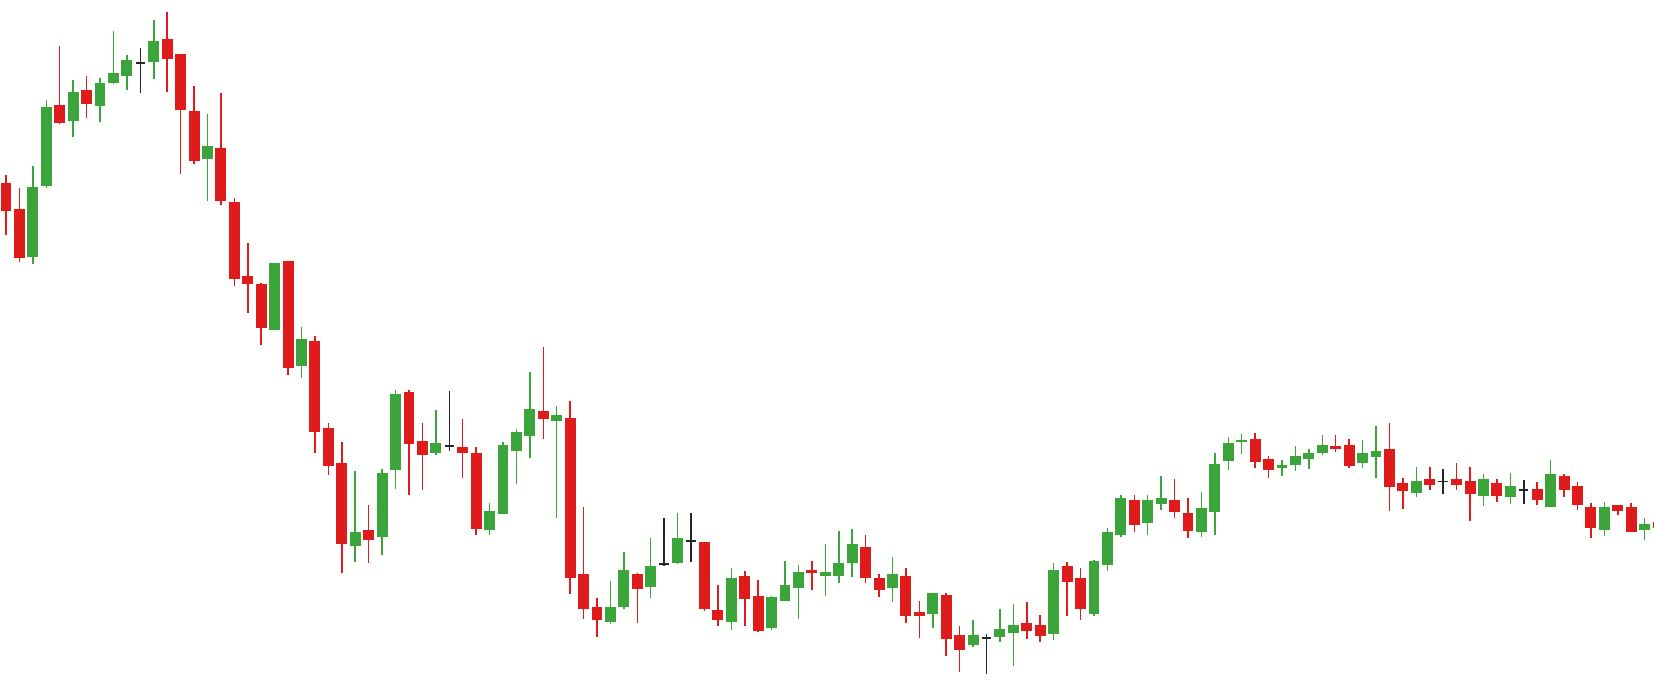sell: (388, 343, 552, 476)
